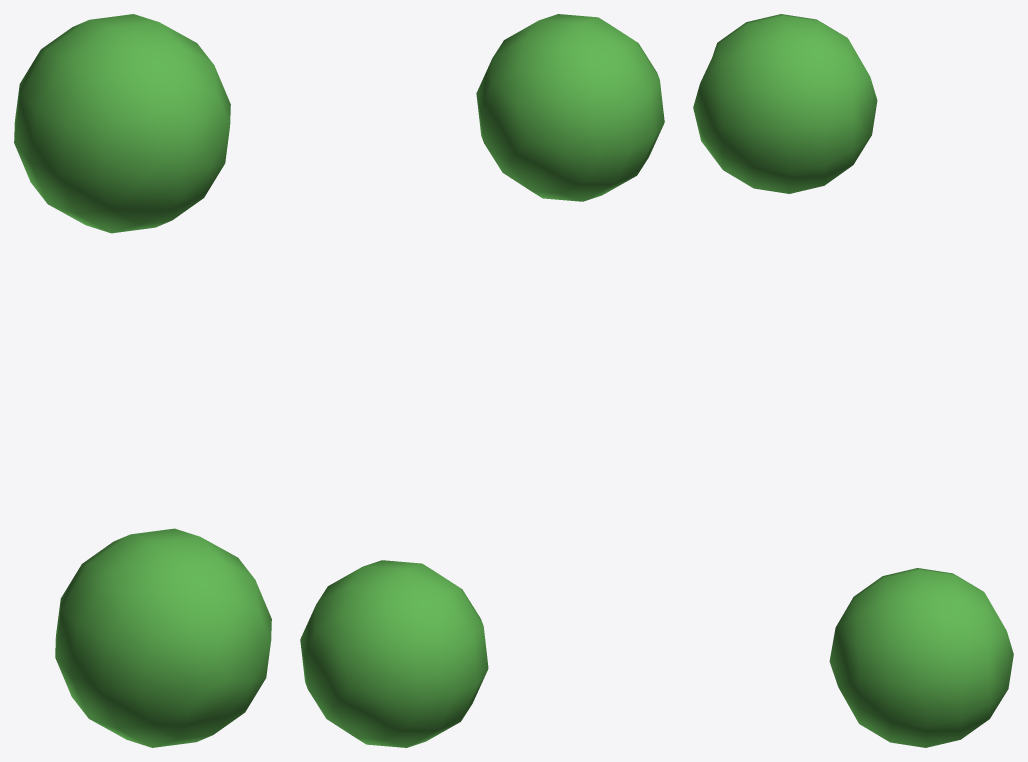
The model's file is linfatico-deep-popliteal-nodes-l.glb.
3 renders of one model, left to right at view 1: azimuth 30°, elevation 25°; view 2: azimuth 150°, elevation 25°; view 3: azimuth 270°, elevation 25°, orthographic. The views are drawn at different scales.
Parts seen in each view (by area): view 1: Deep popliteal nodes.l; view 2: Deep popliteal nodes.l; view 3: Deep popliteal nodes.l.
Boxes of the visible parts, x1,y1,x2,y2 form: Deep popliteal nodes.l: (14,14,271,747); Deep popliteal nodes.l: (300,14,664,747); Deep popliteal nodes.l: (693,14,1013,747).
Size of the model in its own units: 0.00424 by 0.0104 by 0.00452.
